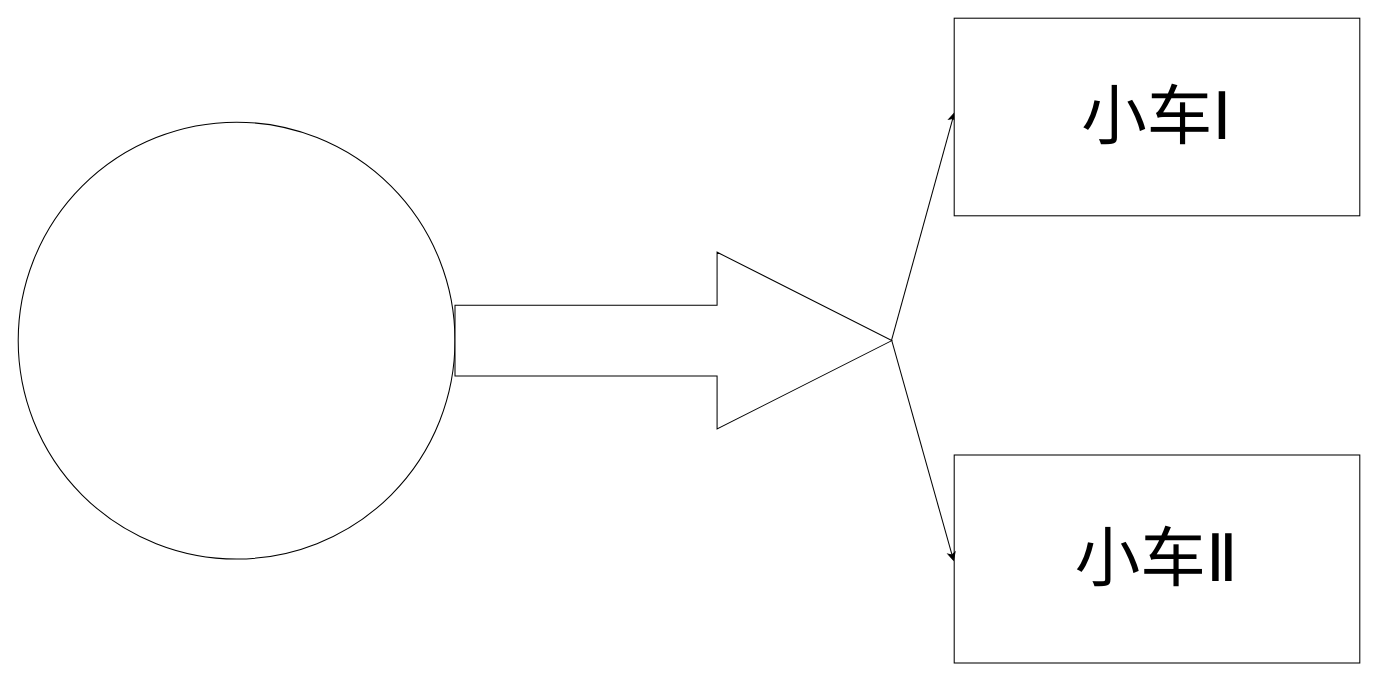
Image size: 1378x681. Some labels were removed from this diagram. Here are the shapes that lost their labels. From the top down, the centre of each, then its label:
At [236,340]: "PC端".
At [673,340]: "UDP通信".
